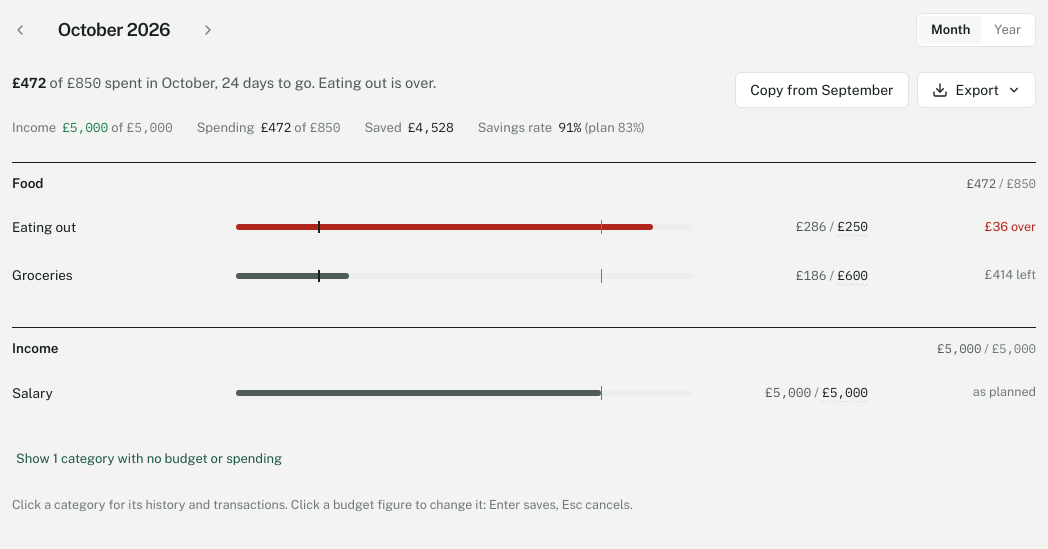
Test case: BudgetsView › rejects an invalid amount and keeps the editor open
expect the text "24 days to go" is shown: met, box [215,74,312,91]
Click the button named "Edit budget for Eating out" at (853, 227), box [833,213,872,241]
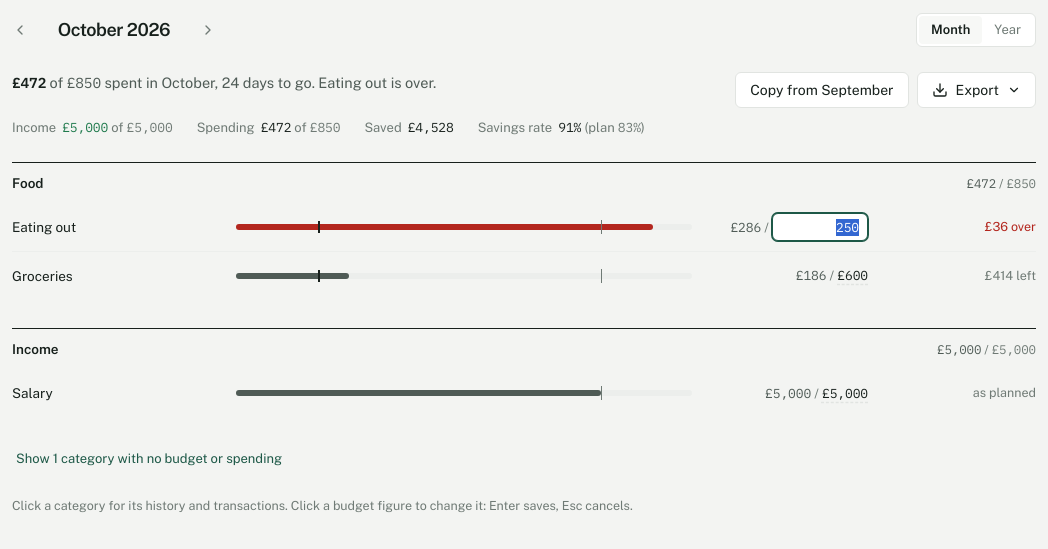
Replace the text in the field named "Budget for Eating out" with "lots" at (820, 227), box [772,213,868,241]
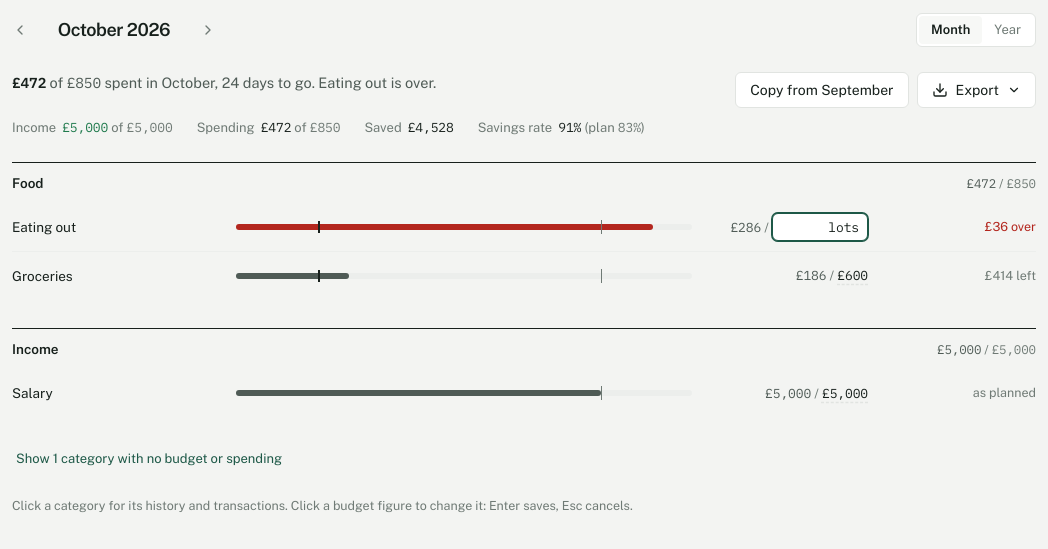
Press Enter in the field named "Budget for Eating out", box [772,213,868,241]
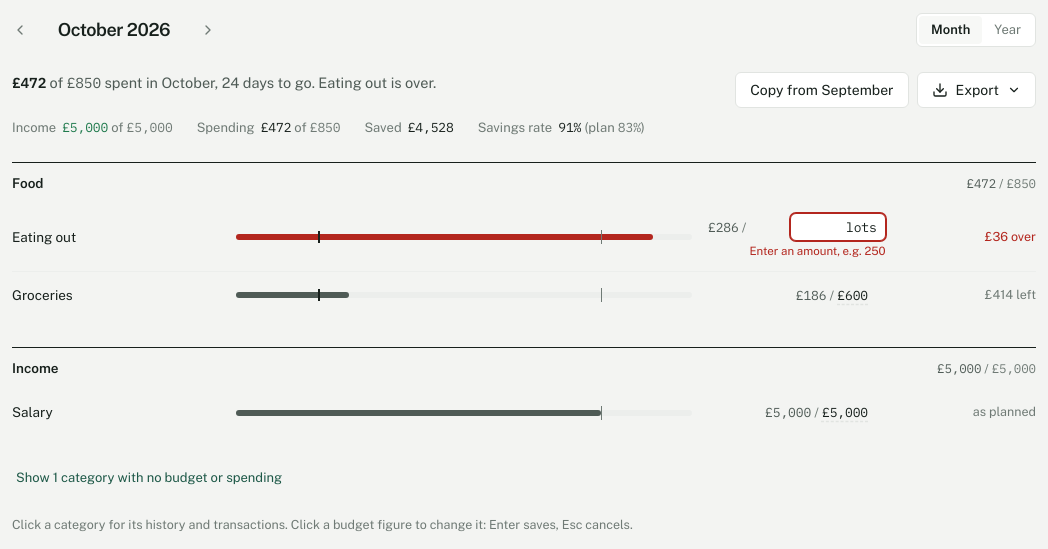
expect the text "Enter an amount, e.g. 250" is shown: met, box [750,243,886,261]
